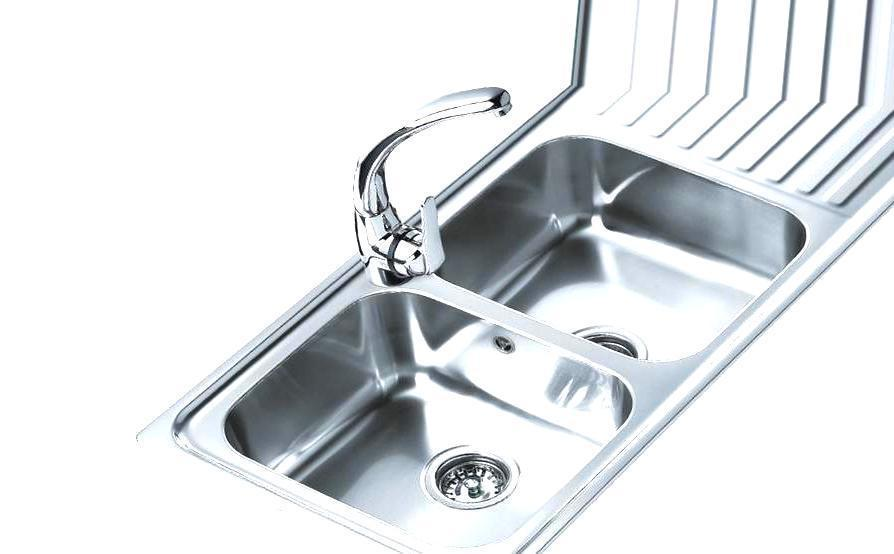Lavaplatos: (109, 104, 874, 544)
